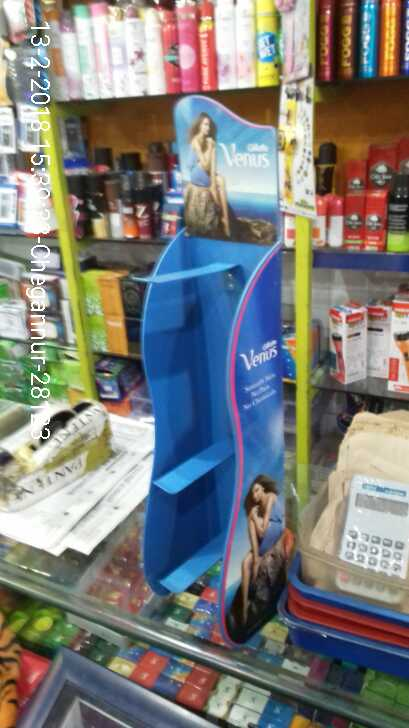reject: (138, 214, 279, 322)
